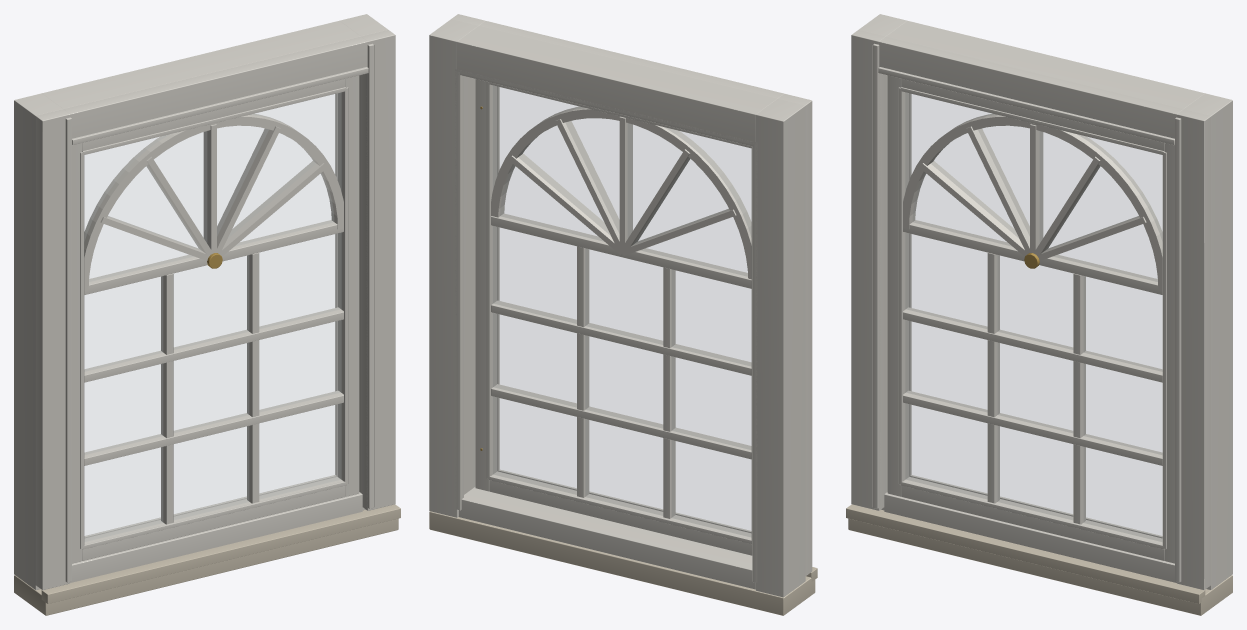
File: rpg-mansion-arched-fixed-window-01.glb
The picture shows the model from 3 angles, left to right: view 1: azimuth 30°, elevation 25°; view 2: azimuth 150°, elevation 25°; view 3: azimuth 330°, elevation 25°; orthographic projection.
Parts seen in each view (by area): view 1: rpg-mansion-arched-fixed-window-01; view 2: rpg-mansion-arched-fixed-window-01; view 3: rpg-mansion-arched-fixed-window-01.
Boxes of the visible parts, box(x1,y1,x2,y2) form: rpg-mansion-arched-fixed-window-01: box(14, 14, 400, 615); rpg-mansion-arched-fixed-window-01: box(429, 14, 817, 615); rpg-mansion-arched-fixed-window-01: box(846, 14, 1232, 615).
Bounding box in the file's own units: 0.9 × 1.2 × 0.15.
